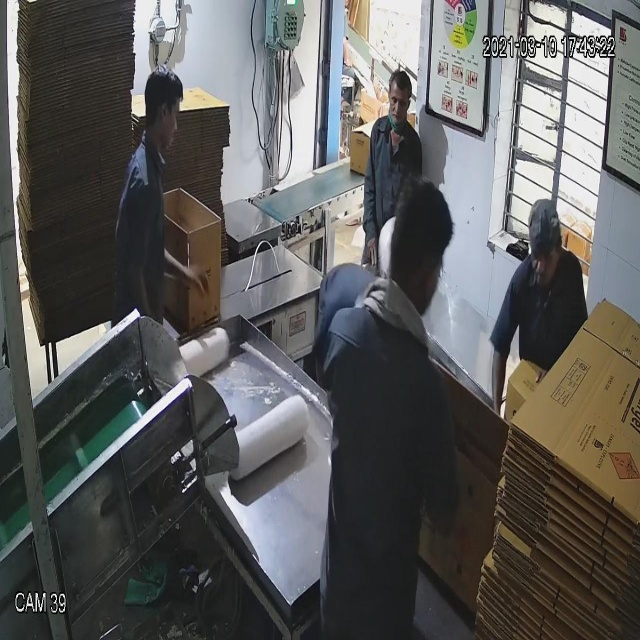Sin_guantes: (155, 233, 219, 303), (358, 178, 381, 274)
